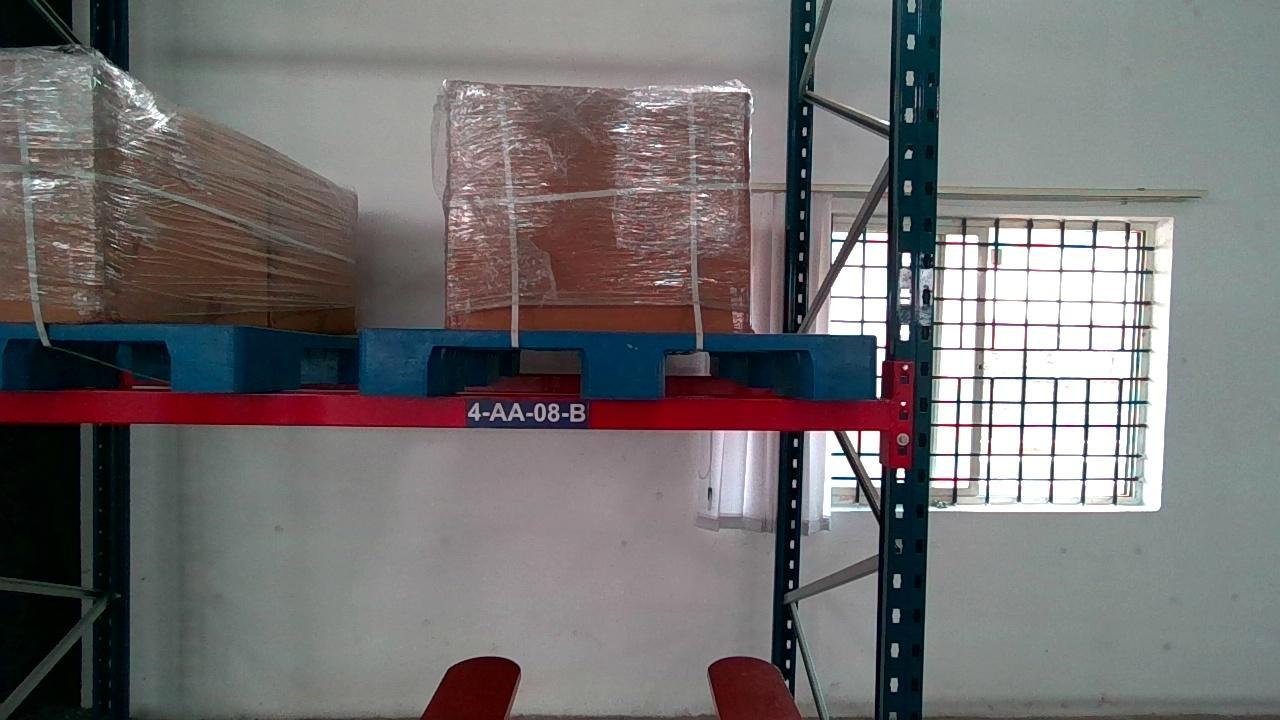small_pallet: (360, 326, 876, 394)
